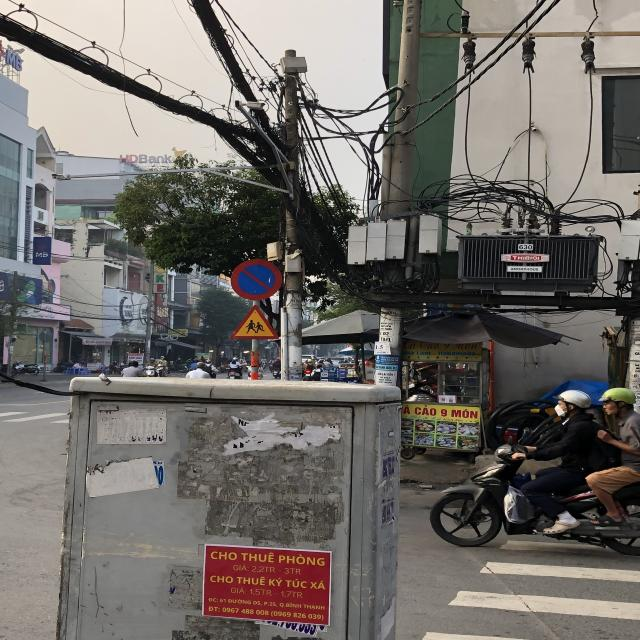Bien bao cam do xe: (226, 253, 284, 301)
Bien bao tre em: (229, 305, 286, 344)
